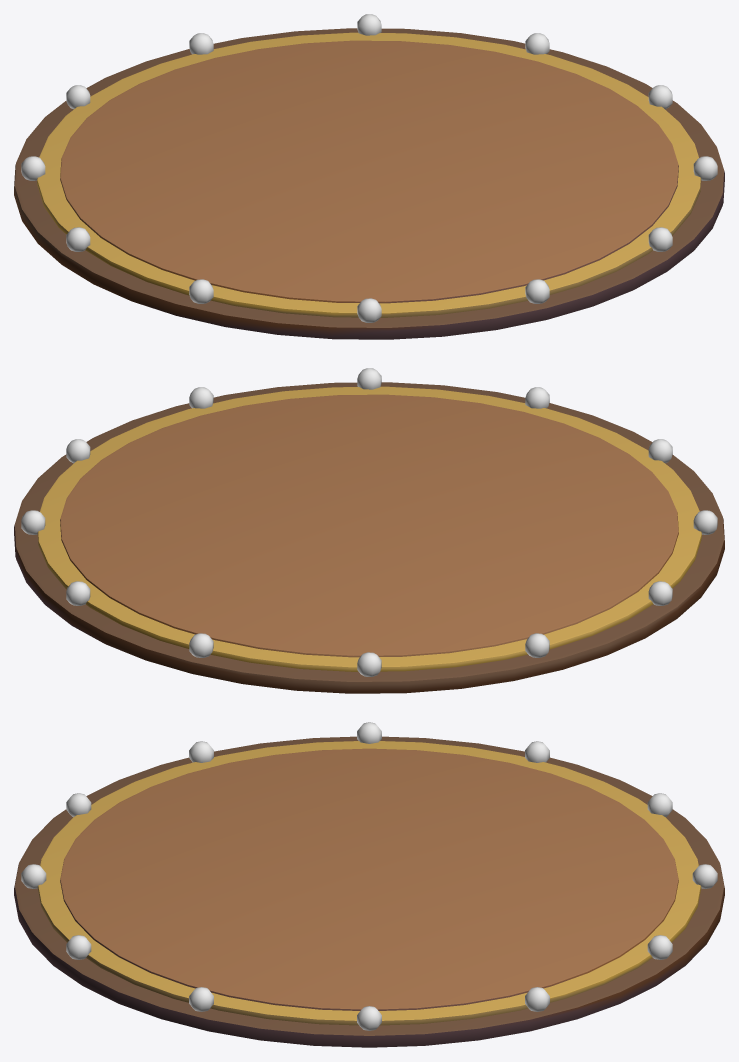
Rendered from LobbyPad.fbx.
3 renders of one model, top to bottom at view 1: azimuth 30°, elevation 25°; view 2: azimuth 150°, elevation 25°; view 3: azimuth 270°, elevation 25°, orthographic.
Visible parts, largest first — view 1: SM_Prop_LobbyPad_Base, SM_Prop_LobbyPad_Glow; view 2: SM_Prop_LobbyPad_Base, SM_Prop_LobbyPad_Glow; view 3: SM_Prop_LobbyPad_Base, SM_Prop_LobbyPad_Glow.
Boxes of the visible parts, x1,y1,x2,y2 form: SM_Prop_LobbyPad_Base: (14,28,724,339); SM_Prop_LobbyPad_Glow: (21,14,717,322); SM_Prop_LobbyPad_Base: (14,382,724,693); SM_Prop_LobbyPad_Glow: (21,368,717,676); SM_Prop_LobbyPad_Base: (14,736,724,1047); SM_Prop_LobbyPad_Glow: (21,722,717,1030).
Size of the model in its own units: 10.8 by 0.56 by 10.8.
